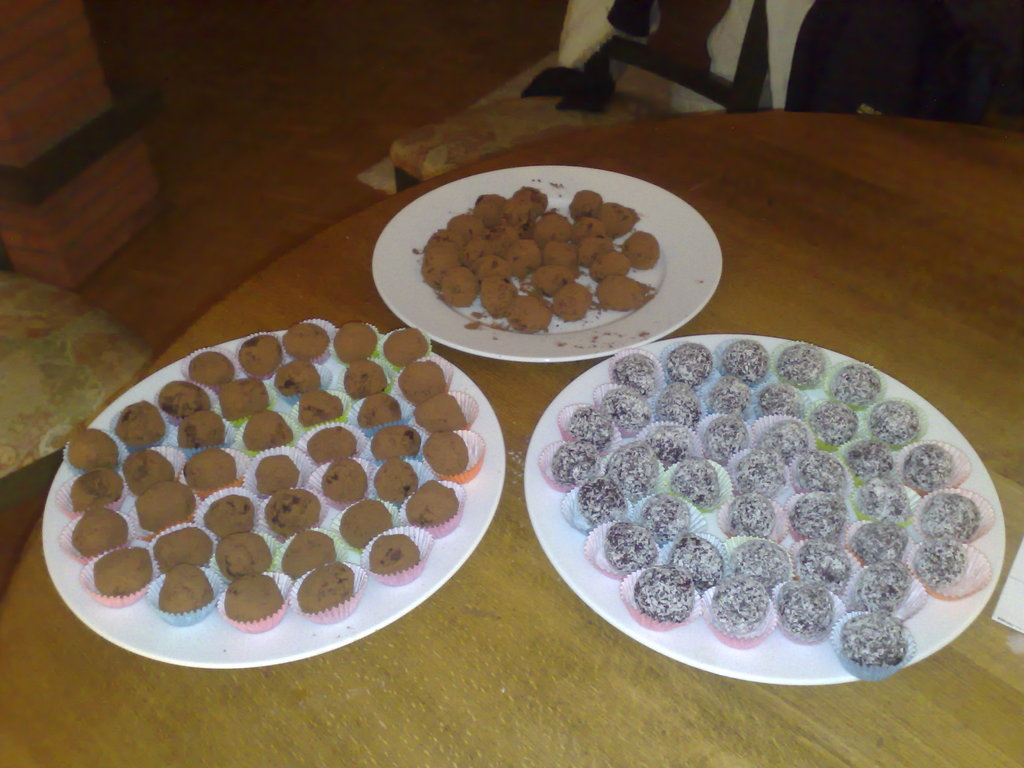plate: (522, 328, 1013, 690)
